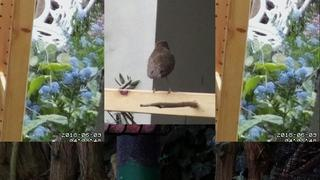robin: (147, 40, 175, 95)
